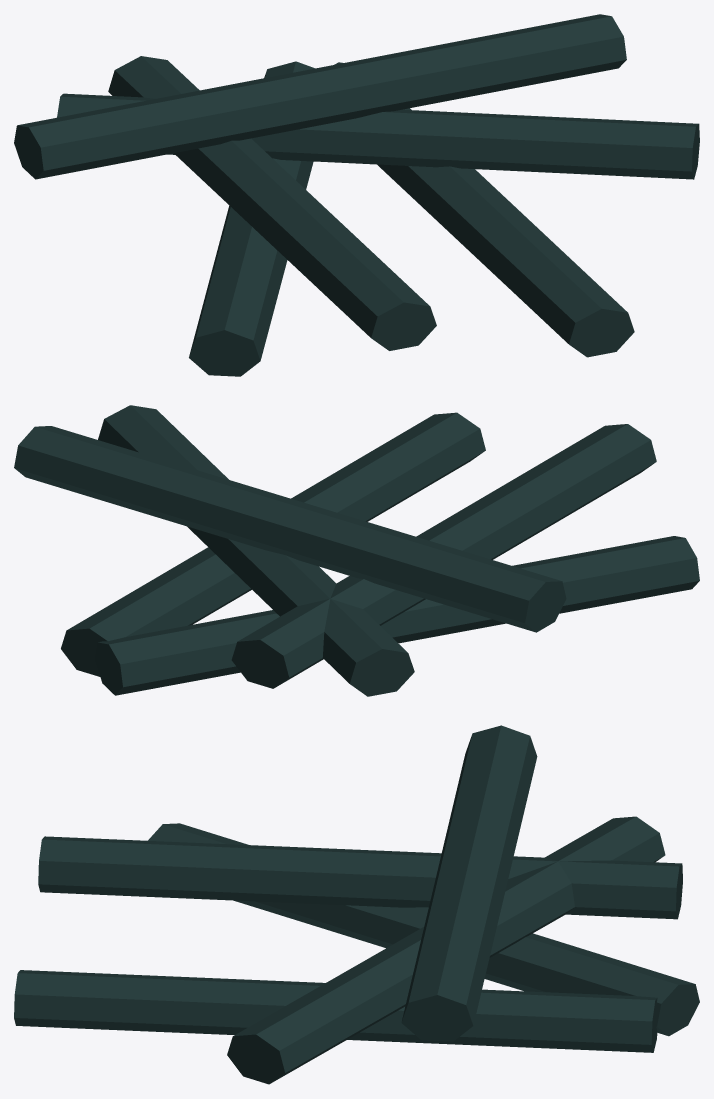
File: df_v2_twisted_root_blocker_a.glb
3 renders of one model, top to bottom at view 1: azimuth 30°, elevation 25°; view 2: azimuth 150°, elevation 25°; view 3: azimuth 270°, elevation 25°, orthographic.
Visible parts, largest first — view 1: overlapping_root_2, overlapping_root_1, overlapping_root_4, overlapping_root_0, overlapping_root_3; view 2: overlapping_root_2, overlapping_root_4, overlapping_root_3, overlapping_root_0, overlapping_root_1; view 3: overlapping_root_4, overlapping_root_0, overlapping_root_2, overlapping_root_1, overlapping_root_3.
Part boxes in pixels (bbox=[...]): overlapping_root_2: bbox=[14, 14, 626, 179]; overlapping_root_1: bbox=[57, 93, 699, 179]; overlapping_root_4: bbox=[108, 56, 436, 350]; overlapping_root_0: bbox=[334, 62, 634, 357]; overlapping_root_3: bbox=[189, 61, 314, 376]; overlapping_root_2: bbox=[14, 426, 566, 632]; overlapping_root_4: bbox=[231, 424, 656, 688]; overlapping_root_3: bbox=[94, 536, 699, 695]; overlapping_root_0: bbox=[61, 412, 485, 676]; overlapping_root_1: bbox=[98, 405, 414, 696]; overlapping_root_4: bbox=[38, 836, 682, 919]; overlapping_root_0: bbox=[14, 970, 657, 1052]; overlapping_root_2: bbox=[401, 725, 537, 1041]; overlapping_root_1: bbox=[227, 816, 665, 1084]; overlapping_root_3: bbox=[148, 823, 699, 1036].
Bounding box in the file's own units: 0.9711 × 0.2153 × 1.02.
